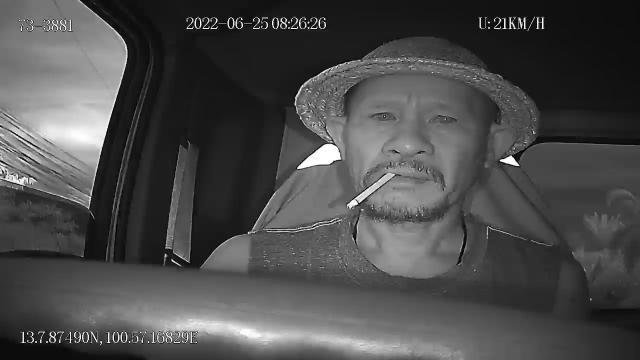SafeDriving: (423, 104, 465, 131), (363, 101, 402, 126)
Smoking: (348, 172, 394, 210)
